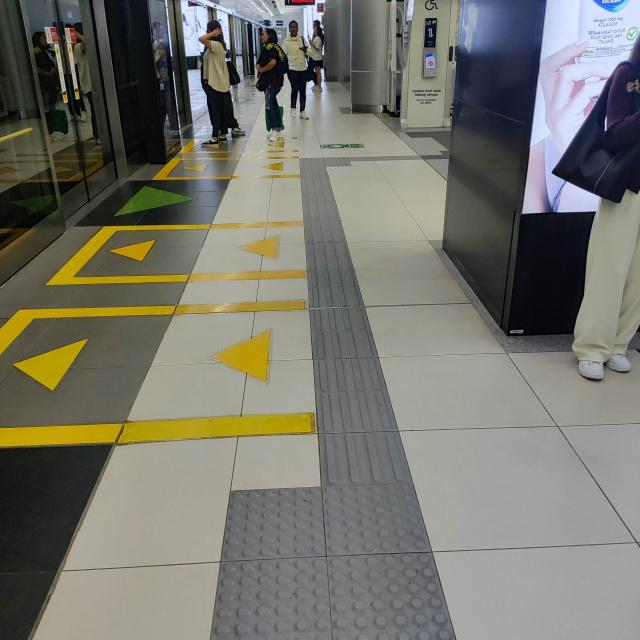kanan: (289, 148, 387, 177)
